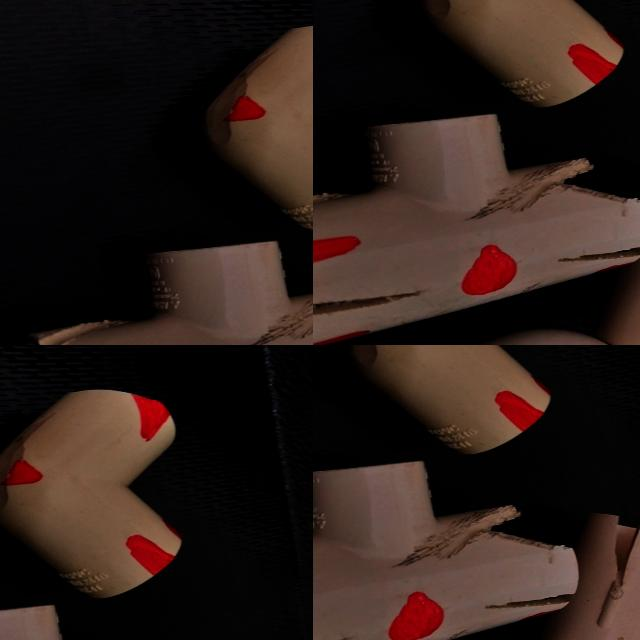Defective: (481, 592, 579, 618), (391, 594, 442, 640), (616, 520, 640, 584), (497, 397, 539, 426)
L Joint: (345, 345, 550, 454)
T Joint: (313, 458, 602, 640)
